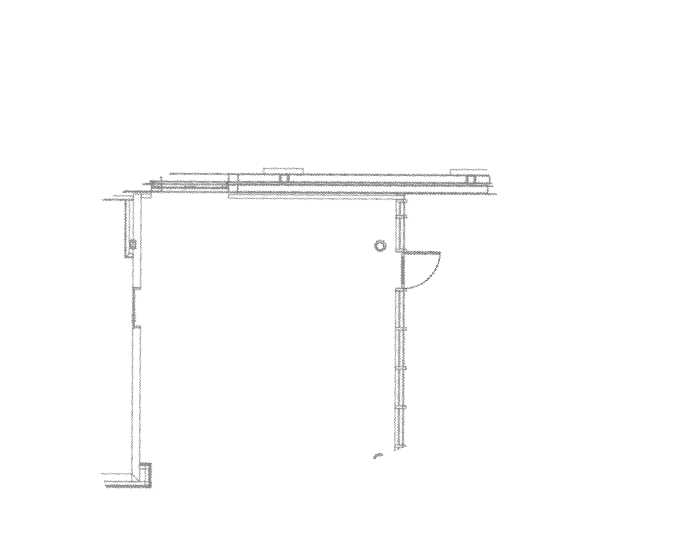door: (396, 245, 448, 295)
